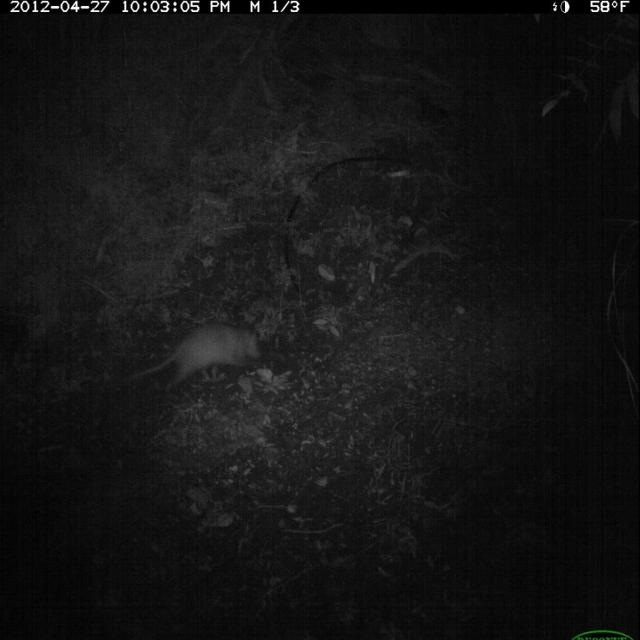opossum: (134, 315, 270, 397)
